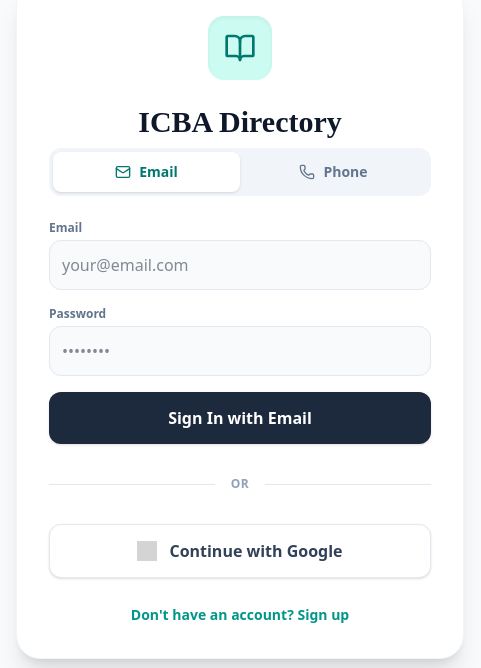
Login page workflows › surfaces friendly Firebase auth errors for email sign-in
Type "wrong@example.com" into the field with placeholder "your@email.com". click: (240, 265)
box: [49,240,431,290]
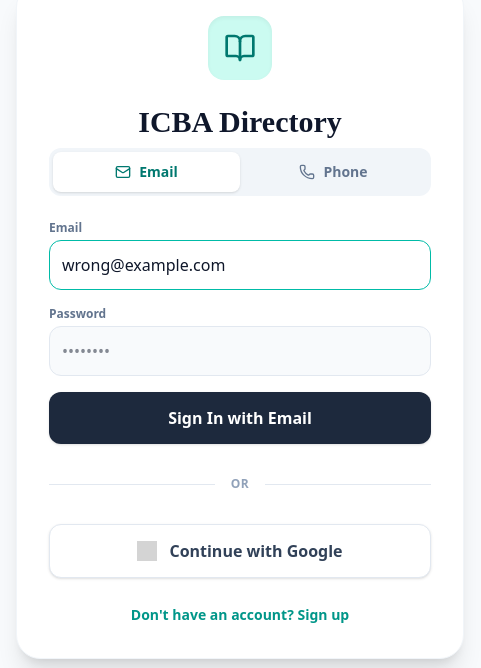
Type "secret123" into the password field with placeholder "••••••••". click: (240, 351)
box: [49,326,431,376]
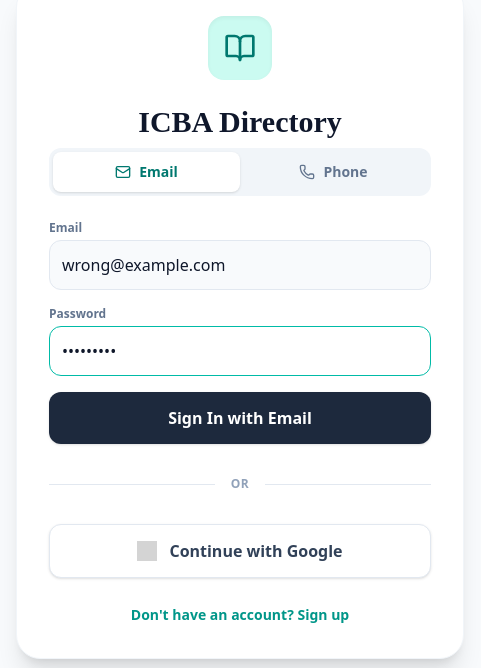
Click the button "Sign In with Email". click: (240, 418)
box: [49,392,431,444]
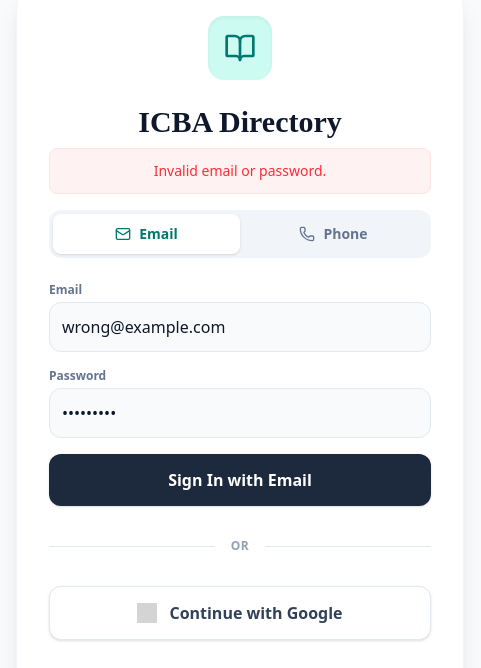
Expected: the text "Invalid email or password." is shown, [49,148,431,194]
